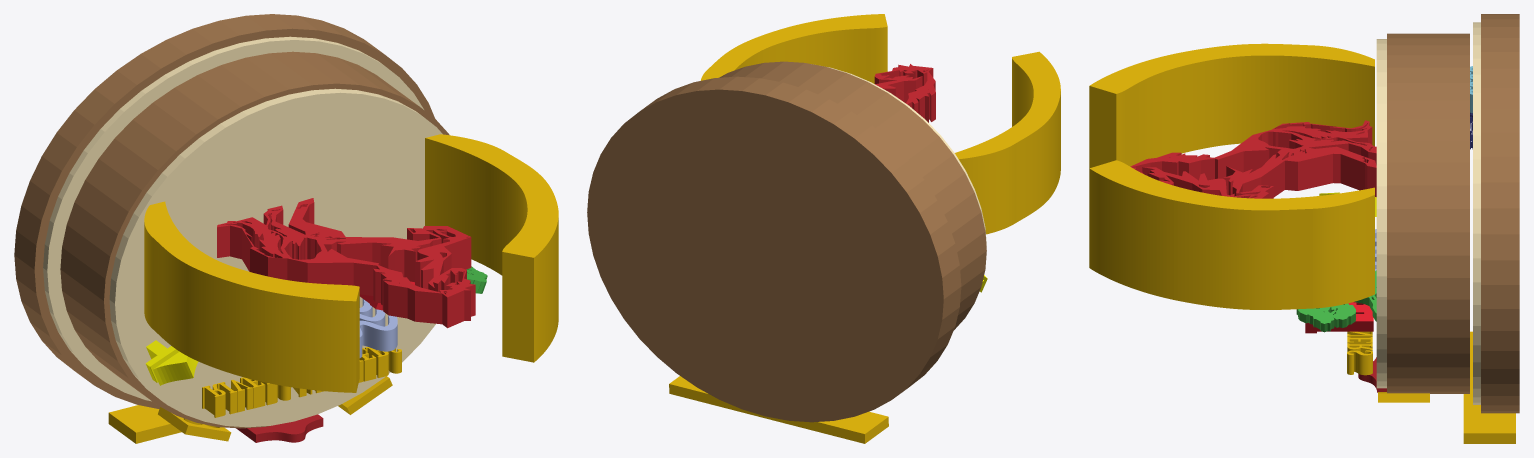
The model's file is tinker.obj.
3 renders of one model, left to right at view 1: azimuth 30°, elevation 25°; view 2: azimuth 150°, elevation 25°; view 3: azimuth 270°, elevation 25°, orthographic. The views are drawn at different scales.
Visible parts, largest first — view 1: obj_5, obj_2, obj_4, obj_3, obj_6, obj_0, obj_1, obj_10, obj_19, obj_15, obj_13, obj_8 (+2 smaller); view 2: obj_0, obj_2, obj_4, obj_3, obj_19, obj_6, obj_5; view 3: obj_3, obj_2, obj_4, obj_0, obj_6, obj_5, obj_1, obj_19, obj_11, obj_10, obj_12, obj_17.
Boxes of the visible parts, bbox=[...] form: obj_5: bbox=[109, 88, 442, 427]; obj_2: bbox=[60, 51, 449, 428]; obj_4: bbox=[144, 201, 359, 392]; obj_3: bbox=[425, 134, 558, 362]; obj_6: bbox=[217, 198, 475, 328]; obj_0: bbox=[14, 14, 434, 409]; obj_1: bbox=[43, 36, 423, 401]; obj_10: bbox=[202, 347, 401, 417]; obj_19: bbox=[108, 405, 181, 443]; obj_15: bbox=[359, 296, 397, 357]; obj_13: bbox=[145, 340, 198, 385]; obj_8: bbox=[236, 414, 323, 442]; obj_0: bbox=[587, 76, 961, 422]; obj_2: bbox=[719, 61, 986, 329]; obj_4: bbox=[955, 51, 1060, 234]; obj_3: bbox=[700, 14, 887, 83]; obj_19: bbox=[669, 376, 888, 443]; obj_6: bbox=[874, 64, 935, 122]; obj_5: bbox=[827, 67, 986, 245]; obj_3: bbox=[1089, 160, 1374, 309]; obj_2: bbox=[1387, 33, 1469, 393]; obj_4: bbox=[1089, 43, 1374, 168]; obj_0: bbox=[1481, 14, 1519, 413]; obj_6: bbox=[1130, 120, 1376, 198]; obj_5: bbox=[1376, 39, 1386, 388]; obj_1: bbox=[1473, 22, 1480, 404]; obj_19: bbox=[1463, 331, 1515, 443]; obj_11: bbox=[1296, 270, 1376, 332]; obj_10: bbox=[1347, 331, 1372, 375]; obj_12: bbox=[1305, 302, 1373, 333]; obj_17: bbox=[1378, 392, 1429, 402].
Size of the model in its own units: 419 by 368 by 400.
